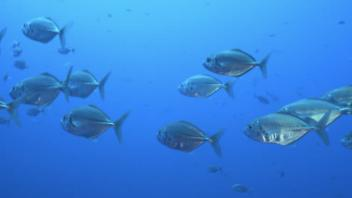Carangidae -Jacks-: (238, 105, 336, 150), (52, 103, 140, 143), (152, 116, 229, 160), (198, 40, 276, 82), (4, 66, 73, 108), (171, 61, 238, 104), (17, 13, 78, 54), (61, 64, 113, 99)
